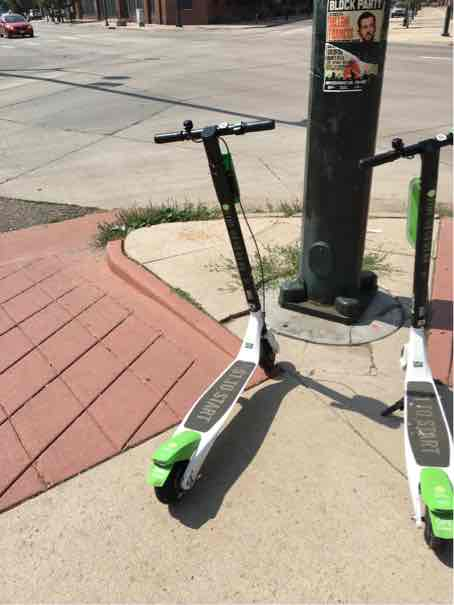scooter: (138, 107, 288, 512), (352, 114, 453, 559)
